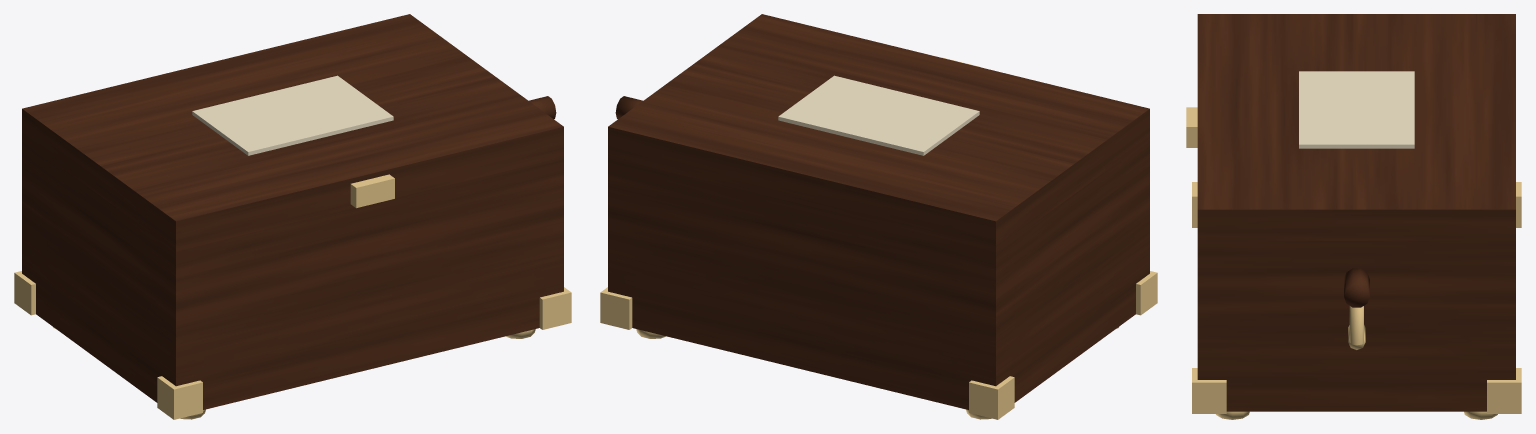
The model's file is music_box.glb.
3 renders of one model, left to right at view 1: azimuth 30°, elevation 25°; view 2: azimuth 150°, elevation 25°; view 3: azimuth 270°, elevation 25°, orthographic. The views are drawn at different scales.
Parts seen in each view (by area): view 1: MusicBox, Lid; view 2: MusicBox, Lid; view 3: Lid, MusicBox.
Part boxes in pixels (box(x1,y1,x2,y2)): MusicBox: box(14, 96, 571, 419); Lid: box(22, 14, 563, 251); MusicBox: box(600, 96, 1157, 419); Lid: box(608, 14, 1149, 251); Lid: box(1186, 14, 1515, 240); MusicBox: box(1192, 182, 1521, 419).
Size of the model in its own units: 0.188 by 0.0845 by 0.116.
Materials: 5 (1 with a texture image).
